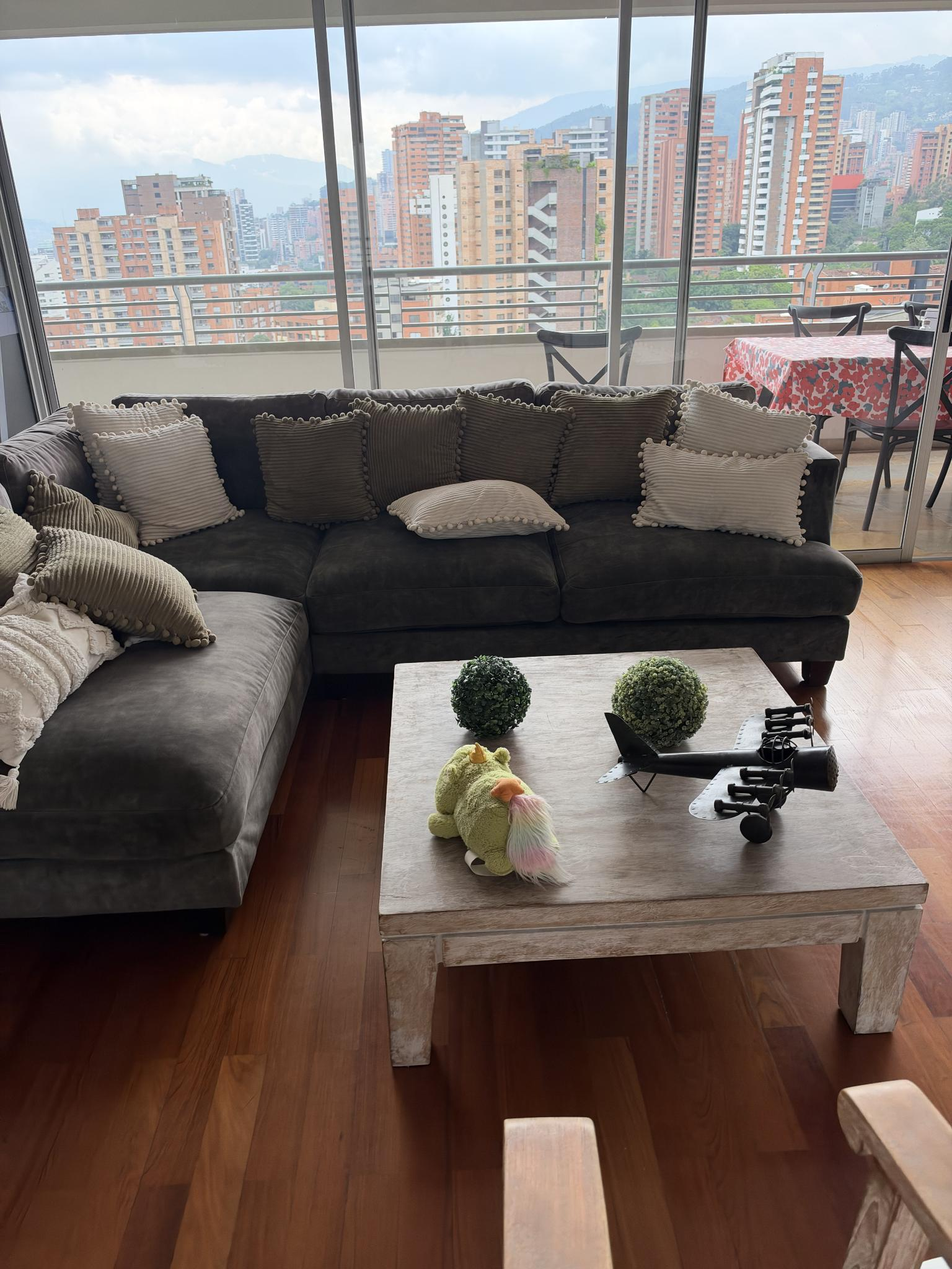peluche_martin: (427, 742, 576, 891)
